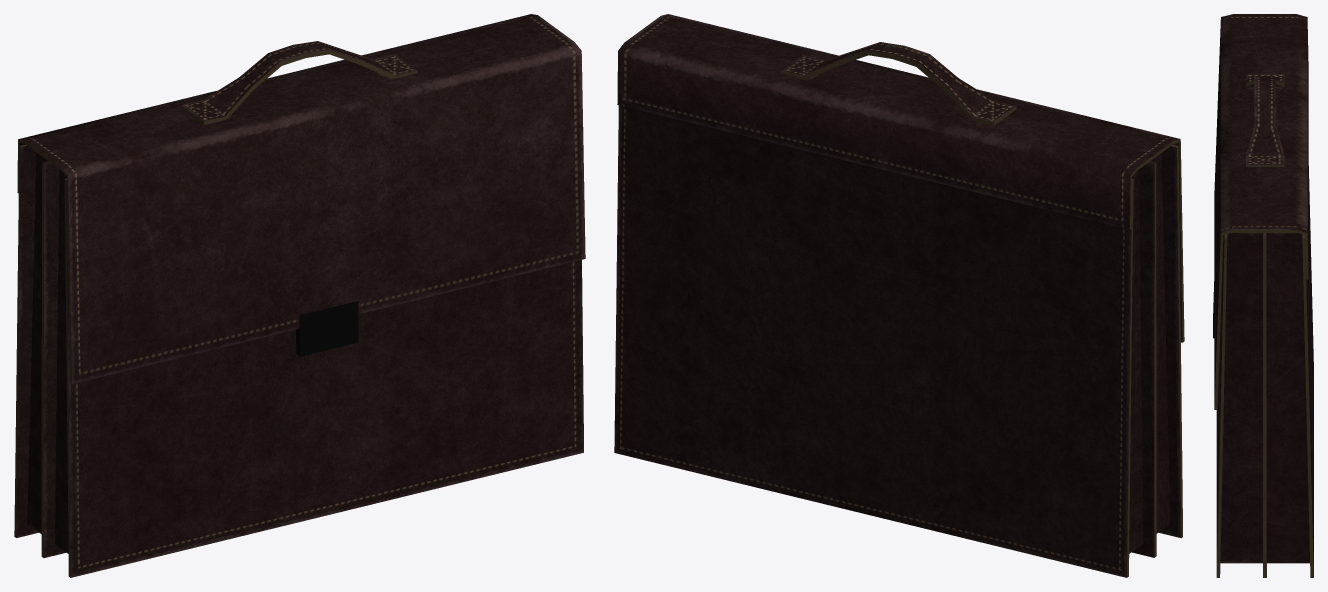
Rendered from Briefcase.FBX.
3 renders of one model, left to right at view 1: azimuth 30°, elevation 25°; view 2: azimuth 150°, elevation 25°; view 3: azimuth 270°, elevation 25°, orthographic. The views are drawn at different scales.
Parts seen in each view (by area): view 1: Briefcase; view 2: Briefcase; view 3: Briefcase.
Part boxes in pixels (x1,y1,x2,y2): Briefcase: (14,14,585,577); Briefcase: (614,14,1184,577); Briefcase: (1213,14,1313,577).
Size of the model in its own units: 15.56 by 12.89 by 3.06.
